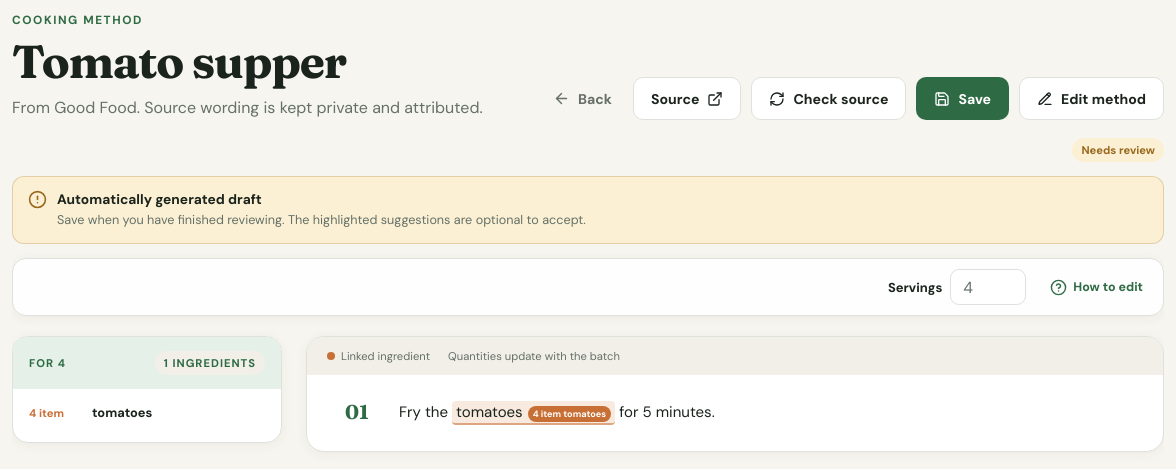
MethodPage › saves a complete needs-review method as reviewed without opening the editor
The width and height of the screenshot is (1176, 469).
Check: the heading "Tomato supper" is shown, box [12,33,346,90]
Click the button "Save". click: coordinates (963, 99)
box: [916,77,1009,120]
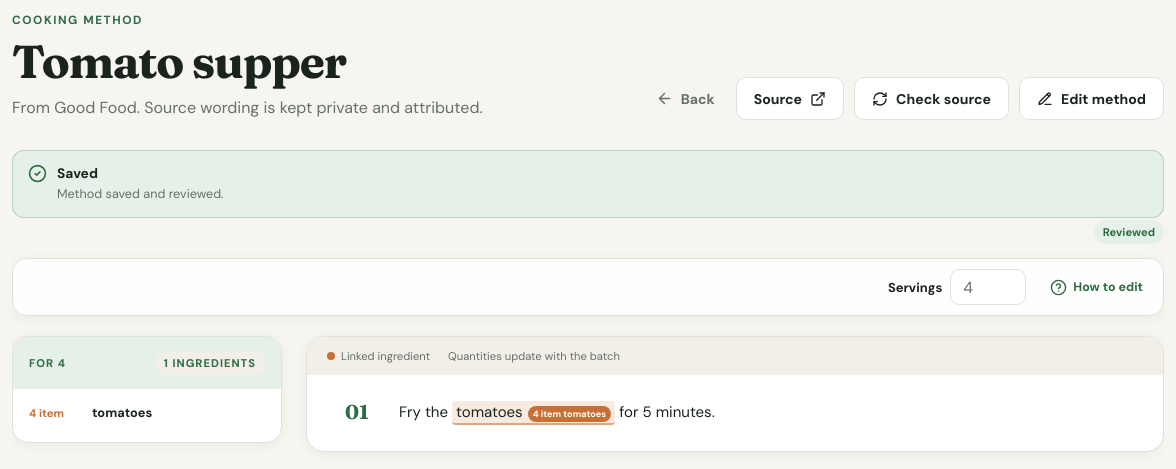
Check: the text "Method saved and reviewed." is shown, box [57,185,224,204]
Check: the text "Reviewed" is shown, box [1094,220,1164,244]
